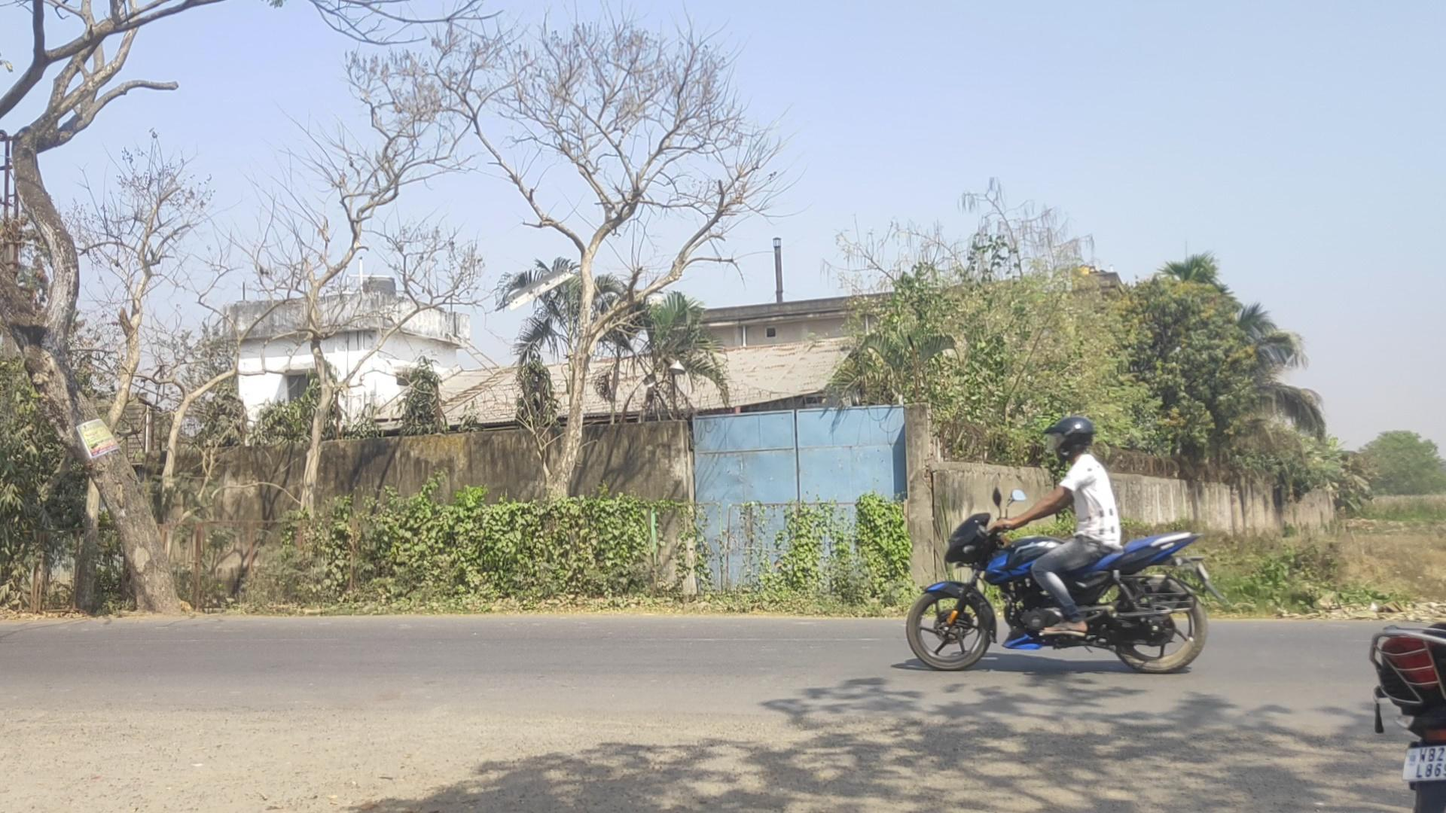bike: (905, 416, 1228, 674)
